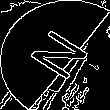N_SE: (18, 24, 92, 86)
